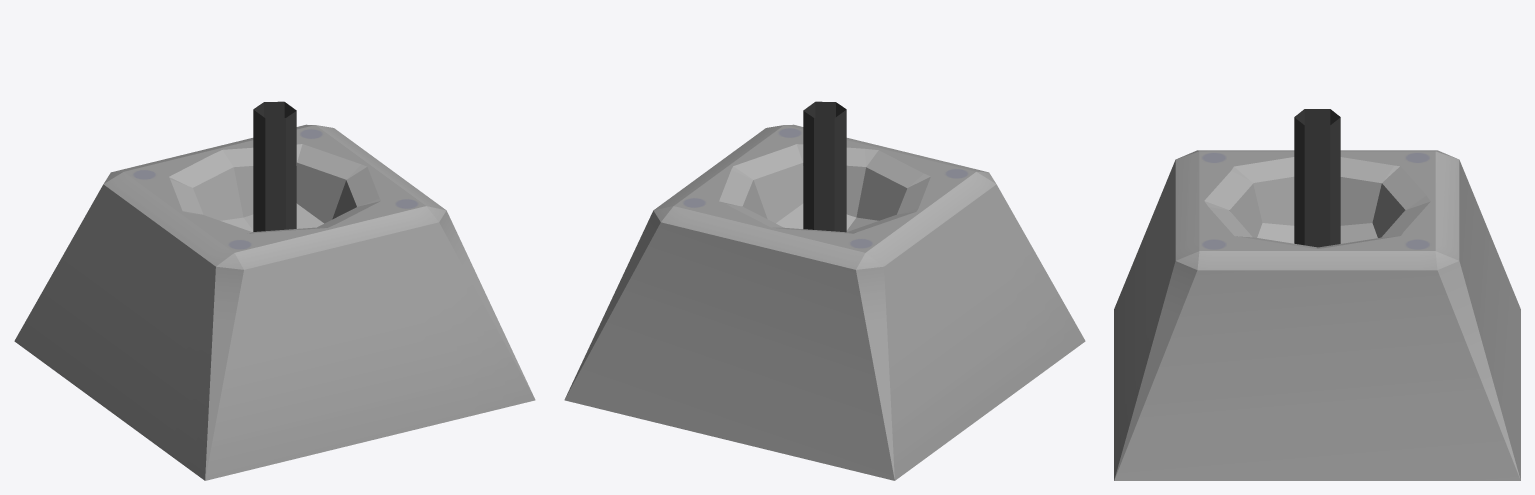
File: obj_interactive_futuristicButton_off.obj
3 renders of one model, left to right at view 1: azimuth 30°, elevation 25°; view 2: azimuth 150°, elevation 25°; view 3: azimuth 270°, elevation 25°, orthographic. The views are drawn at different scales.
Parts seen in each view (by area): view 1: Cube; view 2: Cube; view 3: Cube.
Boxes of the visible parts, bbox=[...] form: Cube: bbox=[14, 101, 535, 480]; Cube: bbox=[564, 101, 1085, 480]; Cube: bbox=[1114, 109, 1520, 480].
Size of the model in its own units: 0.9169 by 0.8851 by 0.9169.
